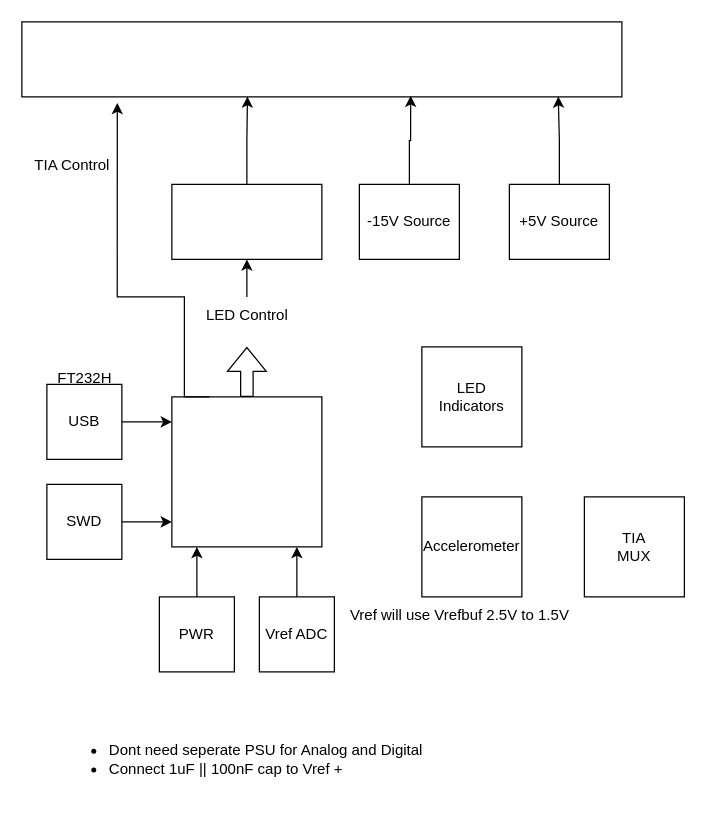
Some shapes in this 706 by 825 pixel diagram are drawn without their labels. Here are the shapes that lost their labels. From the top down, the centre of each, then its label:
At point 321,59: "FPC Out".
At point 246,221: "LED Driver".
At point 246,471: "MCU".
